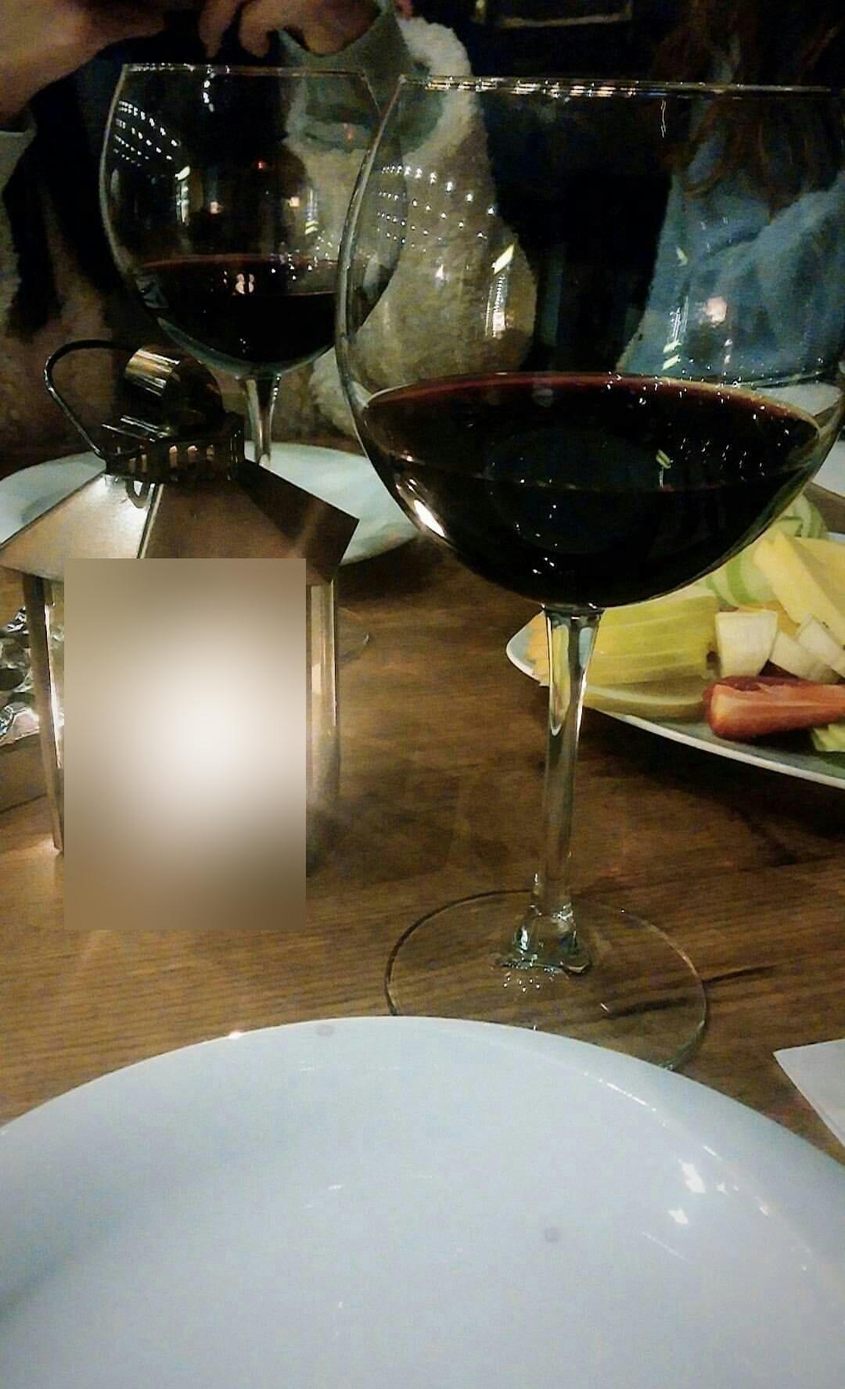glass-wine: (328, 54, 840, 1066), (95, 56, 387, 515)
